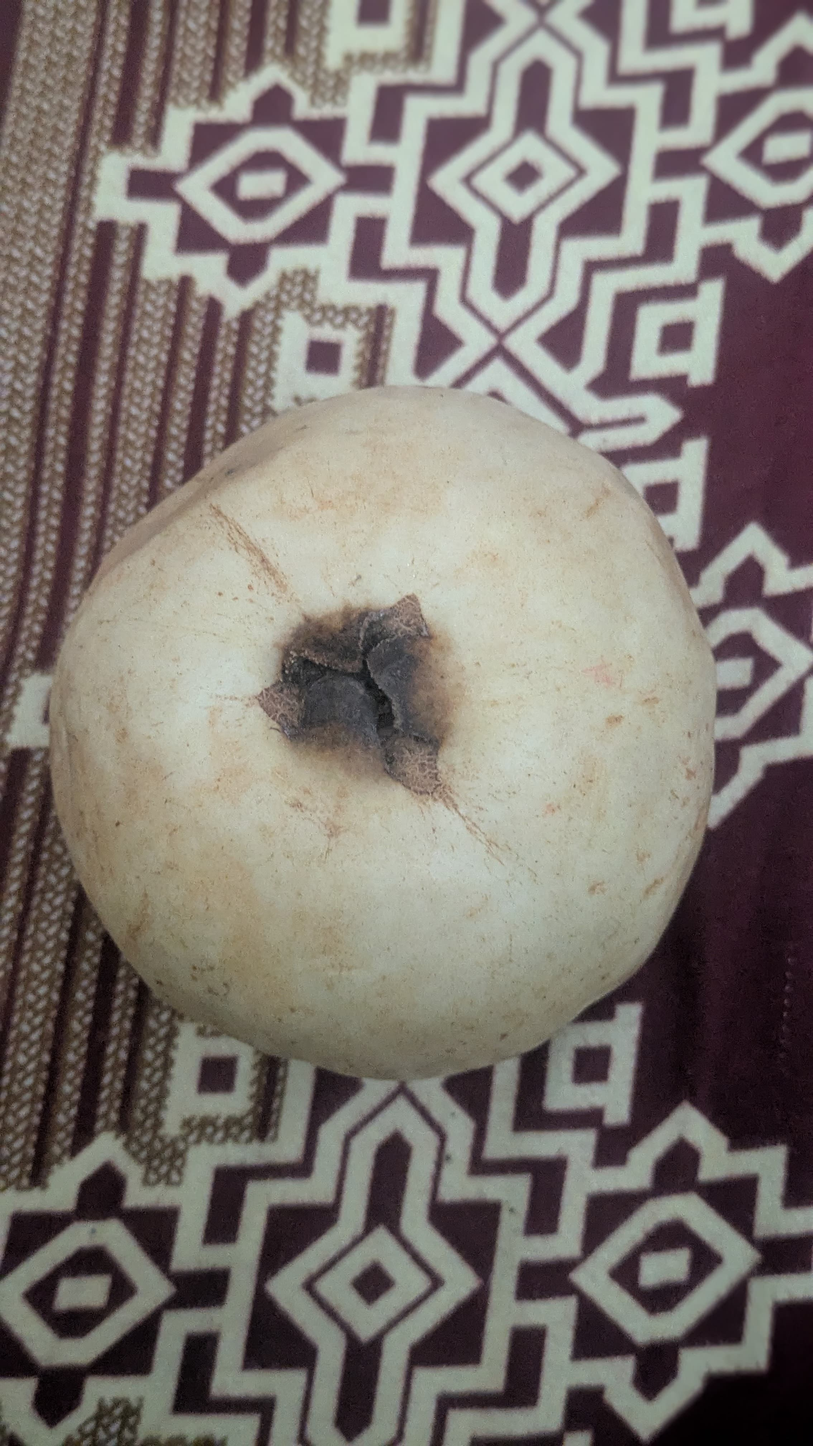guava: (80, 117, 579, 1279)
